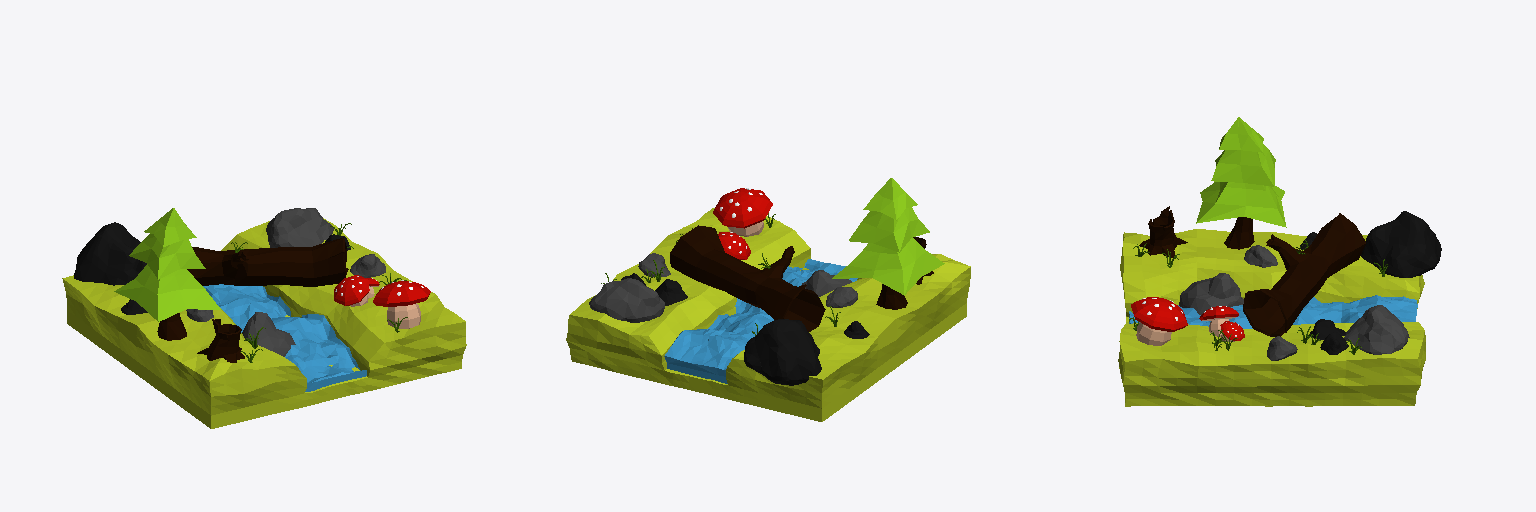
Rendered from lowpoly_forest.obj.
3 renders of one model, left to right at view 1: azimuth 30°, elevation 25°; view 2: azimuth 150°, elevation 25°; view 3: azimuth 270°, elevation 25°, orthographic.
Visible parts, largest first — view 1: Plane, Tree_02_Cube.002, Plane.002, Trunk_Cylinder, Stone02_Icosphere.008, Stone01_Icosphere.007, Mushroom_Cylinder.002, Stone4_Icosphere.012, Bough_Cylinder.001, Mushroom.003_Cylinder.005, Stone03.001_Icosphere.011; view 2: Plane, Tree_02_Cube.002, Trunk_Cylinder, Plane.002, Stone02_Icosphere.008, Stone01_Icosphere.007, Mushroom_Cylinder.002, Stone4_Icosphere.012, Mushroom.003_Cylinder.005, Stone03_Icosphere.009, Stone01.001_Icosphere.014; view 3: Plane, Tree_02_Cube.002, Trunk_Cylinder, Stone02_Icosphere.008, Plane.002, Stone01_Icosphere.007, Mushroom_Cylinder.002, Stone4_Icosphere.012, Bough_Cylinder.001, Mushroom.003_Cylinder.005, Stone01.001_Icosphere.014.
Boxes of the visible parts, x1,y1,x2,y2 form: Plane: [62, 218, 466, 428]; Tree_02_Cube.002: [114, 208, 220, 340]; Plane.002: [203, 284, 366, 391]; Trunk_Cylinder: [187, 237, 348, 286]; Stone02_Icosphere.008: [74, 222, 146, 285]; Stone01_Icosphere.007: [266, 208, 333, 247]; Mushroom_Cylinder.002: [373, 280, 430, 328]; Stone4_Icosphere.012: [242, 312, 295, 356]; Bough_Cylinder.001: [197, 319, 244, 362]; Mushroom.003_Cylinder.005: [334, 275, 369, 306]; Stone03.001_Icosphere.011: [350, 254, 385, 277]; Plane: [566, 208, 970, 421]; Tree_02_Cube.002: [832, 178, 944, 309]; Trunk_Cylinder: [670, 225, 825, 331]; Plane.002: [664, 259, 857, 383]; Stone02_Icosphere.008: [744, 319, 821, 385]; Stone01_Icosphere.007: [589, 278, 664, 322]; Mushroom_Cylinder.002: [713, 188, 772, 236]; Stone4_Icosphere.012: [801, 270, 851, 296]; Mushroom.003_Cylinder.005: [718, 232, 750, 259]; Stone03_Icosphere.009: [655, 279, 687, 305]; Stone01.001_Icosphere.014: [826, 287, 857, 307]; Plane: [1118, 229, 1425, 406]; Tree_02_Cube.002: [1196, 117, 1286, 249]; Trunk_Cylinder: [1243, 213, 1365, 336]; Stone02_Icosphere.008: [1361, 211, 1441, 277]; Plane.002: [1129, 295, 1417, 328]; Stone01_Icosphere.007: [1344, 305, 1409, 354]; Mushroom_Cylinder.002: [1131, 297, 1187, 345]; Stone4_Icosphere.012: [1179, 273, 1243, 314]; Bough_Cylinder.001: [1139, 206, 1187, 257]; Mushroom.003_Cylinder.005: [1199, 306, 1238, 336]; Stone01.001_Icosphere.014: [1244, 245, 1277, 267].
Size of the model in its own units: 33.94 by 20.47 by 34.1.